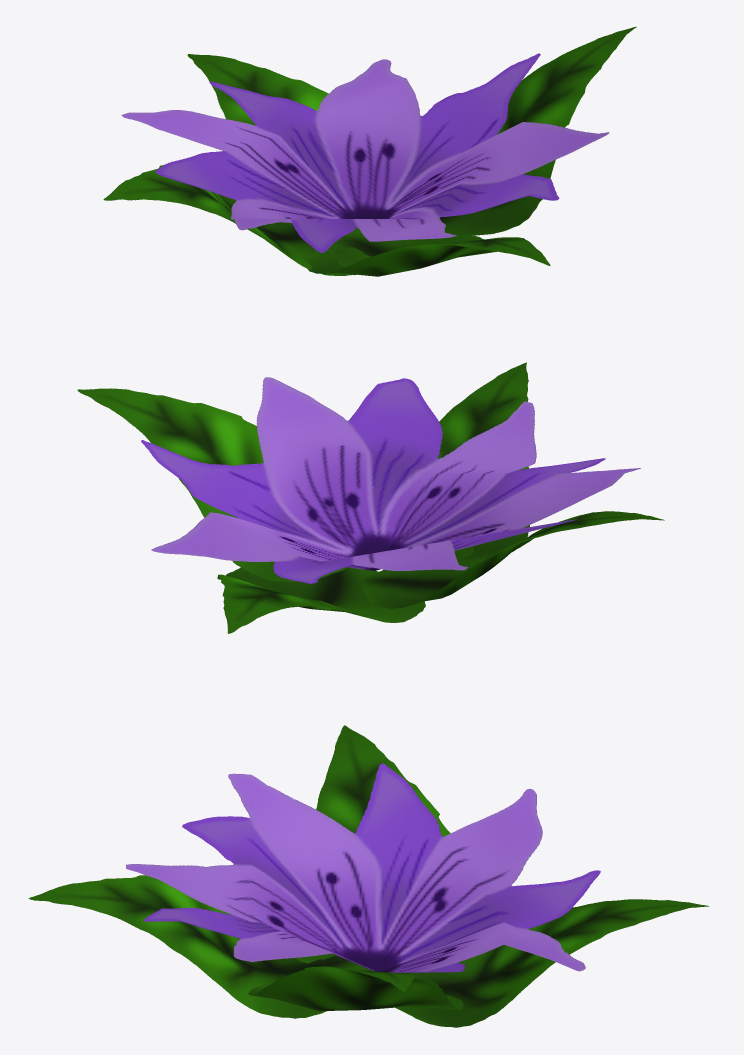
File: FlorPequeña3.fbx
3 renders of one model, top to bottom at view 1: azimuth 30°, elevation 25°; view 2: azimuth 150°, elevation 25°; view 3: azimuth 270°, elevation 25°, orthographic. The views are drawn at different scales.
Visible parts, largest first — view 1: Flor3; view 2: Flor3; view 3: Flor3.
Boxes of the visible parts, x1,y1,x2,y2 form: Flor3: [103, 26, 636, 276]; Flor3: [77, 362, 664, 633]; Flor3: [28, 725, 709, 1027].
Size of the model in its own units: 42 by 9.57 by 42.23.
